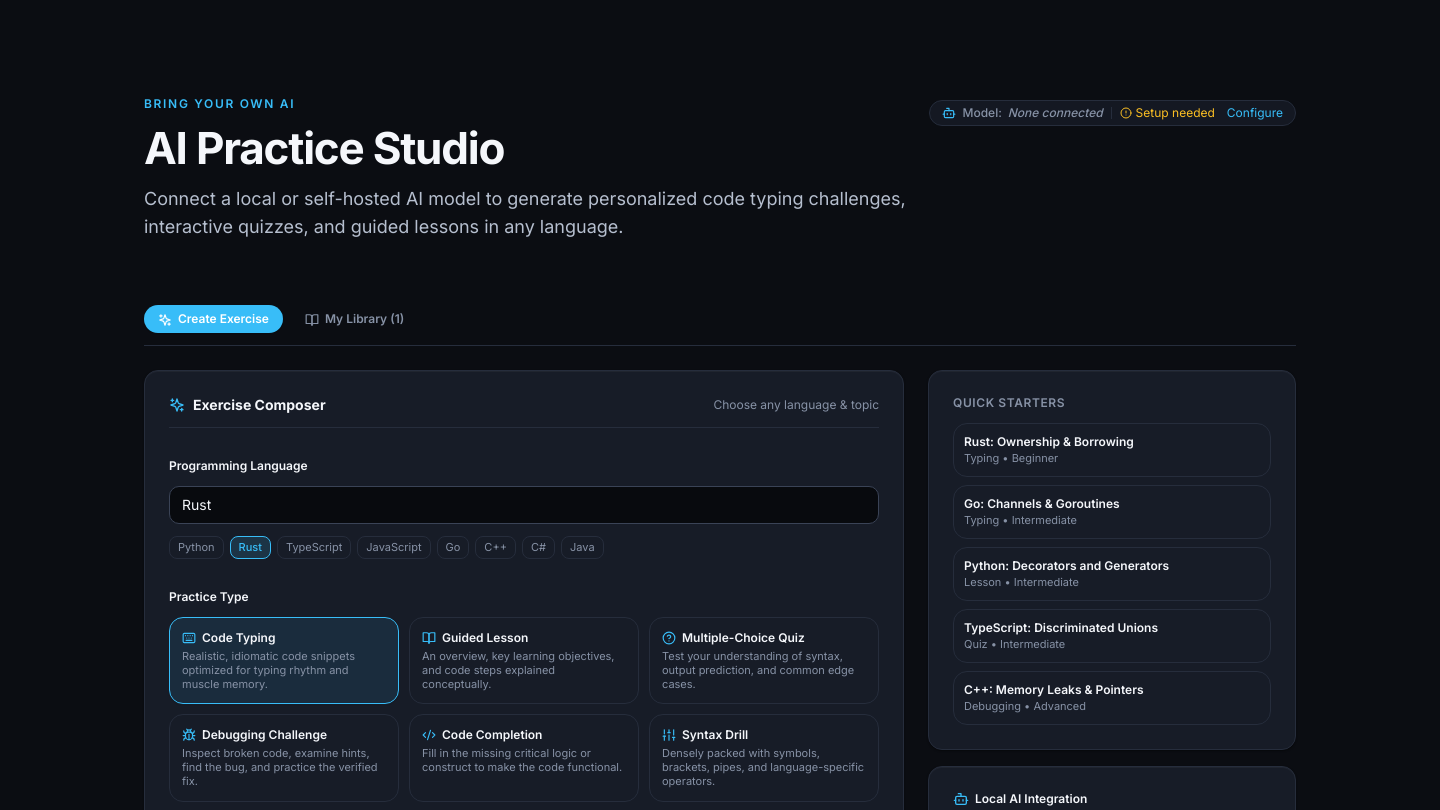
Test: AI Practice Studio UI › displays saved practices in My Library
Click the button "My Library (1)" at (355, 319), box [291,305,418,333]
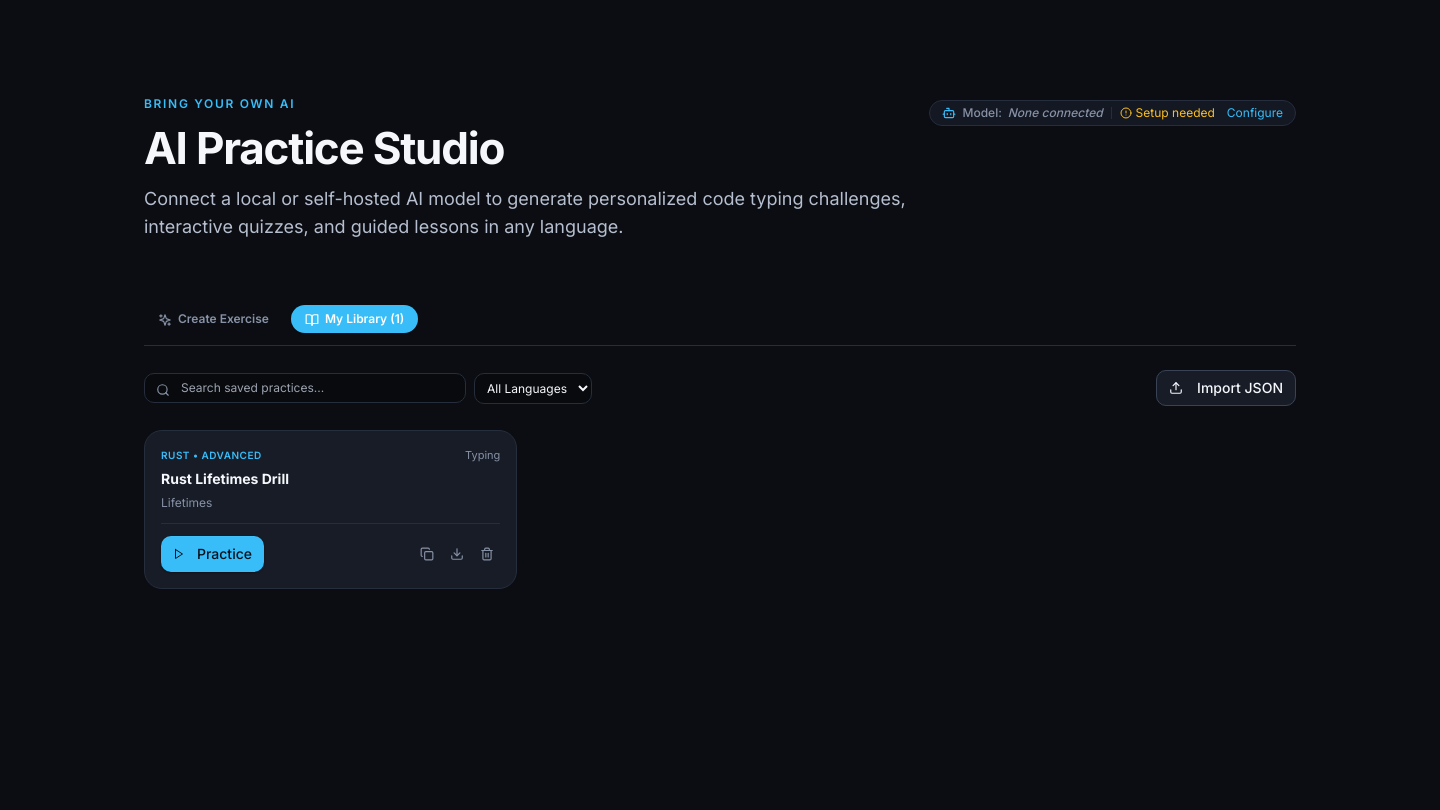
Check: the heading "Rust Lifetimes Drill" is shown, box [161,470,289,487]
Check: the text "Rust • advanced" is shown, box [161,447,262,463]
